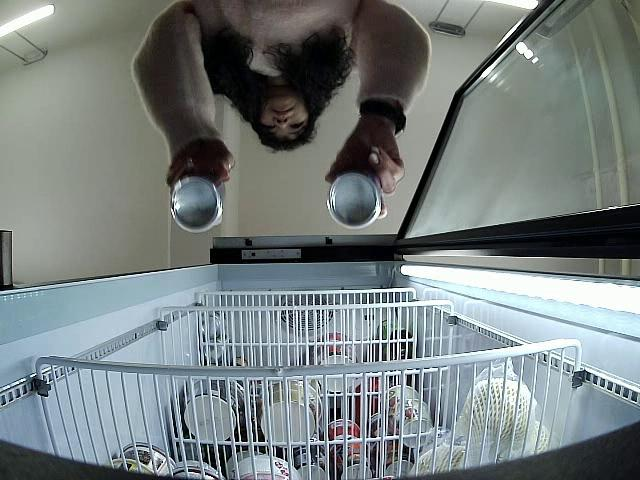00_hand: (325, 125, 407, 220), (163, 141, 238, 201)
16_hot6: (327, 161, 382, 229), (168, 168, 225, 233)
